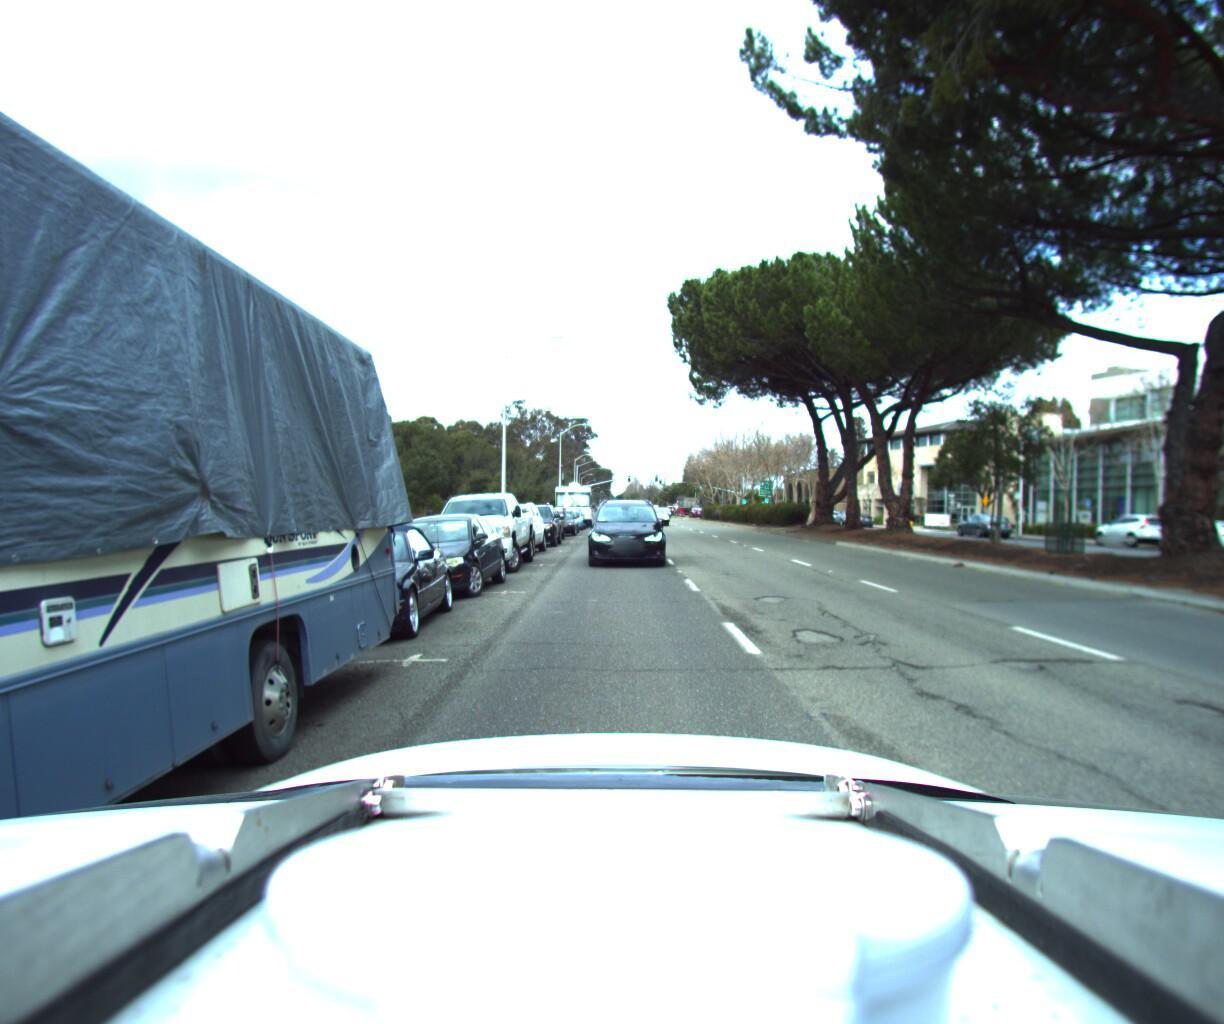bus: (552, 477, 592, 520)
car: (252, 519, 461, 654), (360, 507, 514, 604), (430, 486, 537, 573), (585, 492, 663, 566), (476, 494, 545, 555), (1087, 506, 1179, 545), (1152, 513, 1224, 551), (510, 495, 562, 546), (518, 501, 566, 538), (943, 506, 1006, 531), (961, 507, 1014, 532), (543, 502, 576, 532), (556, 500, 586, 525), (642, 500, 669, 521), (845, 506, 875, 521)
